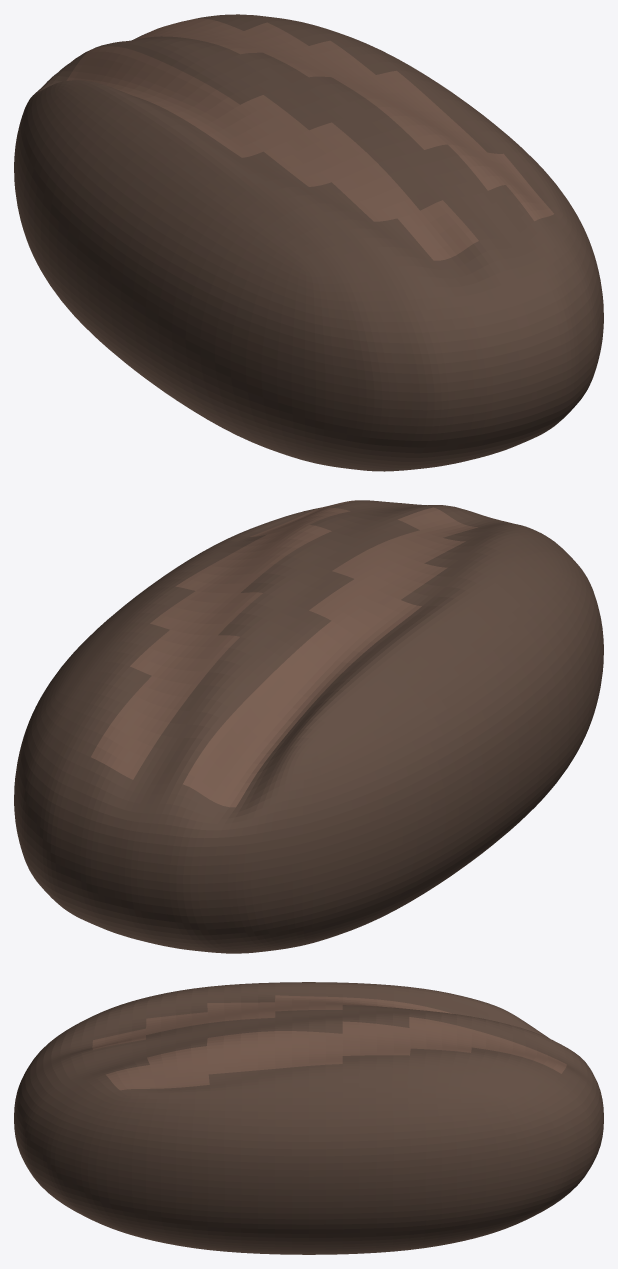
File: Brot.fbx
3 views of the same model, one above another, from view 1: azimuth 30°, elevation 25°; view 2: azimuth 150°, elevation 25°; view 3: azimuth 270°, elevation 25° (orthographic). The views are drawn at different scales.
Parts seen in each view (by area): view 1: Cube; view 2: Cube; view 3: Cube.
Boxes of the visible parts, <box> form: Cube: <box>14,14,603,471</box>; Cube: <box>14,500,603,953</box>; Cube: <box>14,982,603,1254</box>.
Bounding box in the file's own units: 129 × 90.58 × 225.
